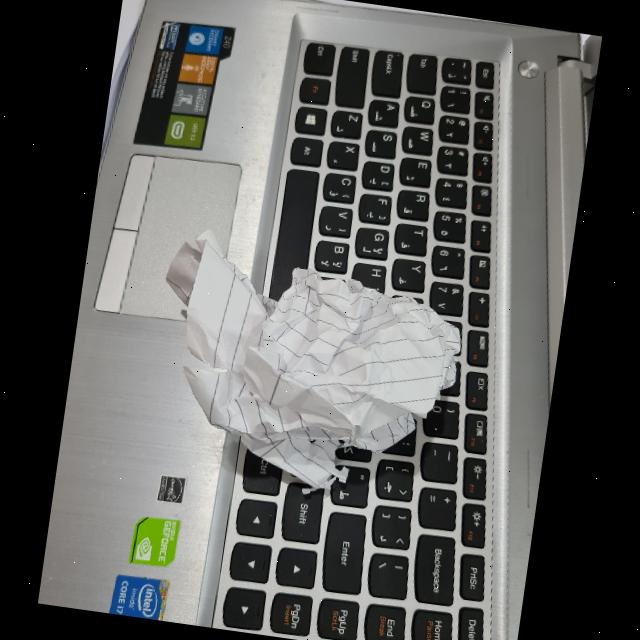trash: (154, 242, 465, 490)
